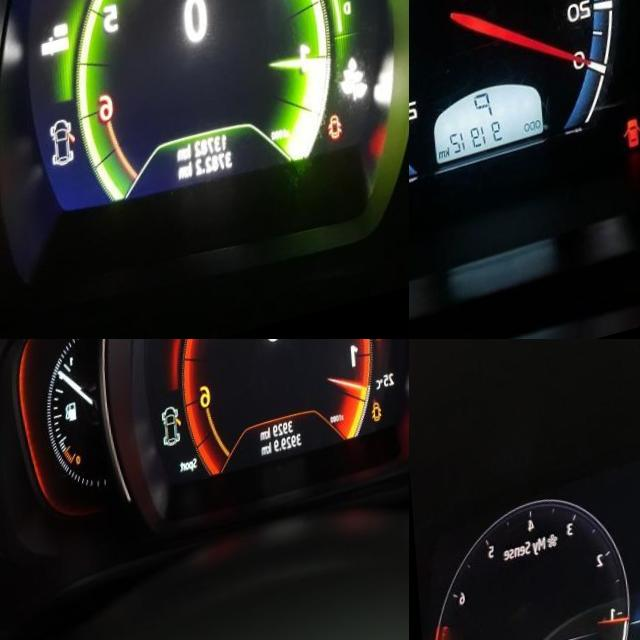Doors: (617, 140, 638, 173), (321, 134, 337, 162), (365, 423, 378, 445)
